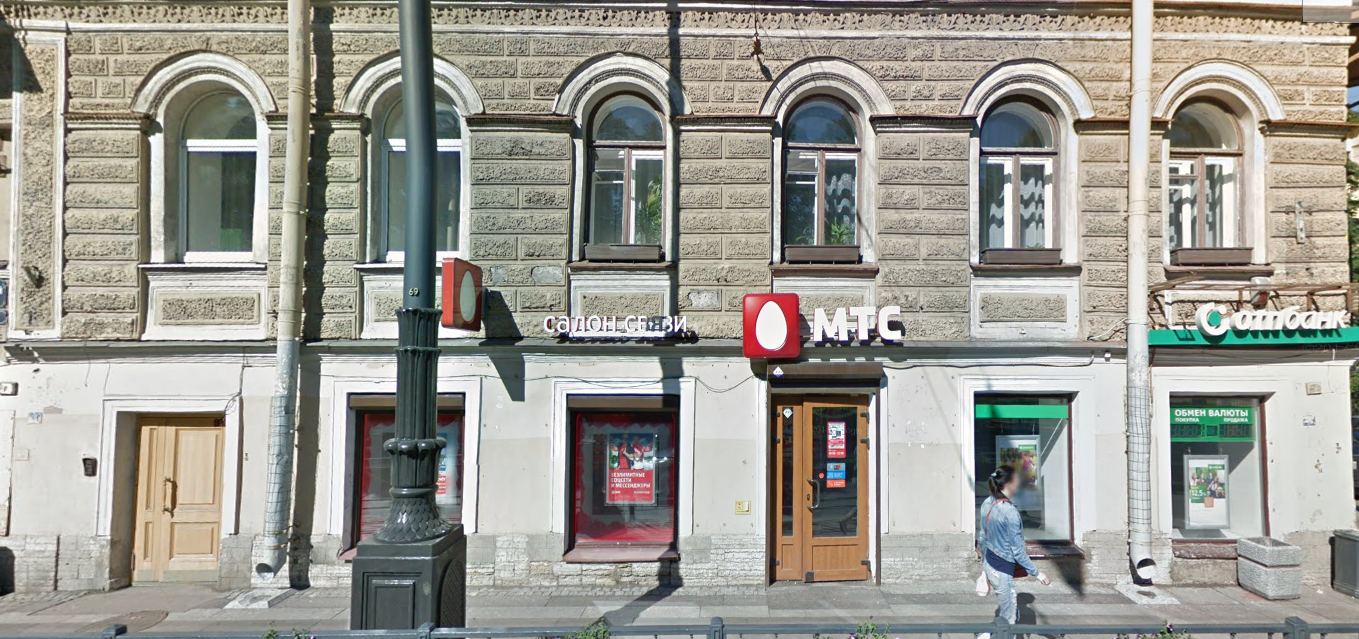cantilever: (442, 256, 498, 331)
door: (767, 389, 873, 592), (127, 419, 222, 585)
signboard: (1146, 292, 1359, 357), (734, 285, 908, 364), (543, 310, 690, 343)
window: (367, 89, 465, 265), (175, 87, 270, 261), (975, 389, 1075, 544), (571, 405, 675, 553), (579, 85, 666, 256), (974, 94, 1060, 259), (784, 89, 867, 259), (1170, 91, 1251, 259), (1174, 396, 1259, 543)
